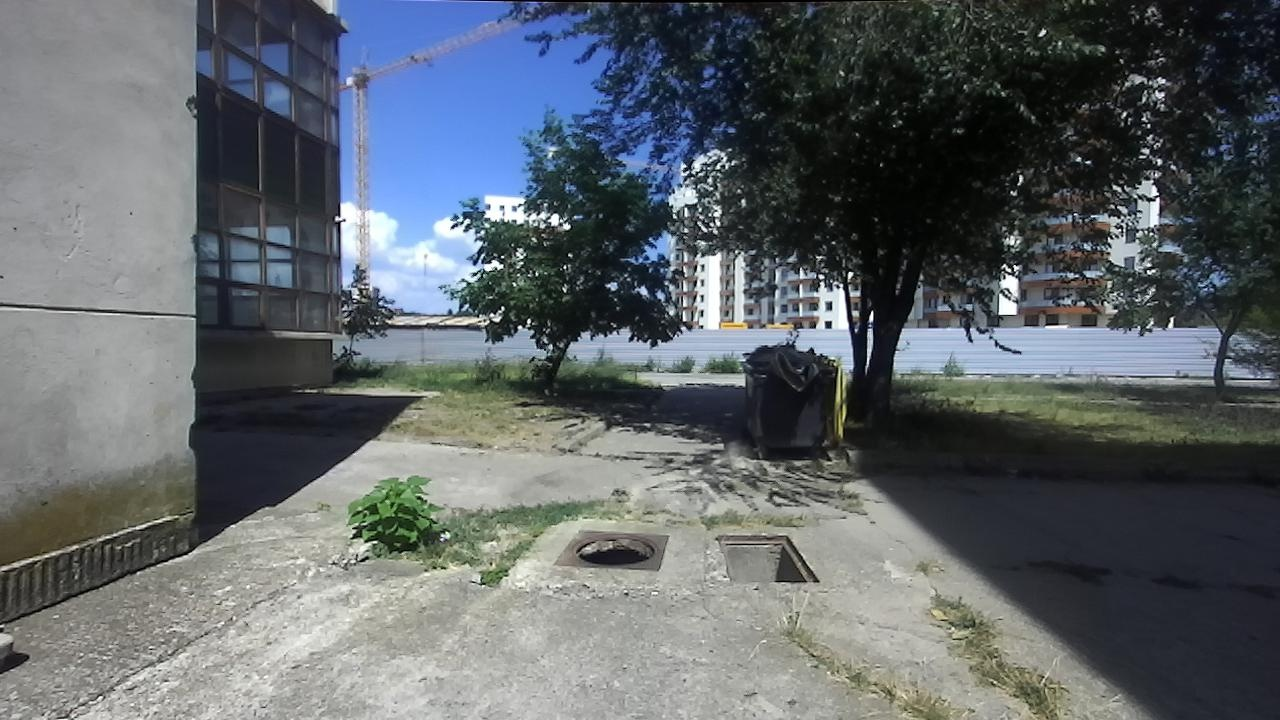drain: (709, 526, 824, 587), (568, 532, 660, 571)
